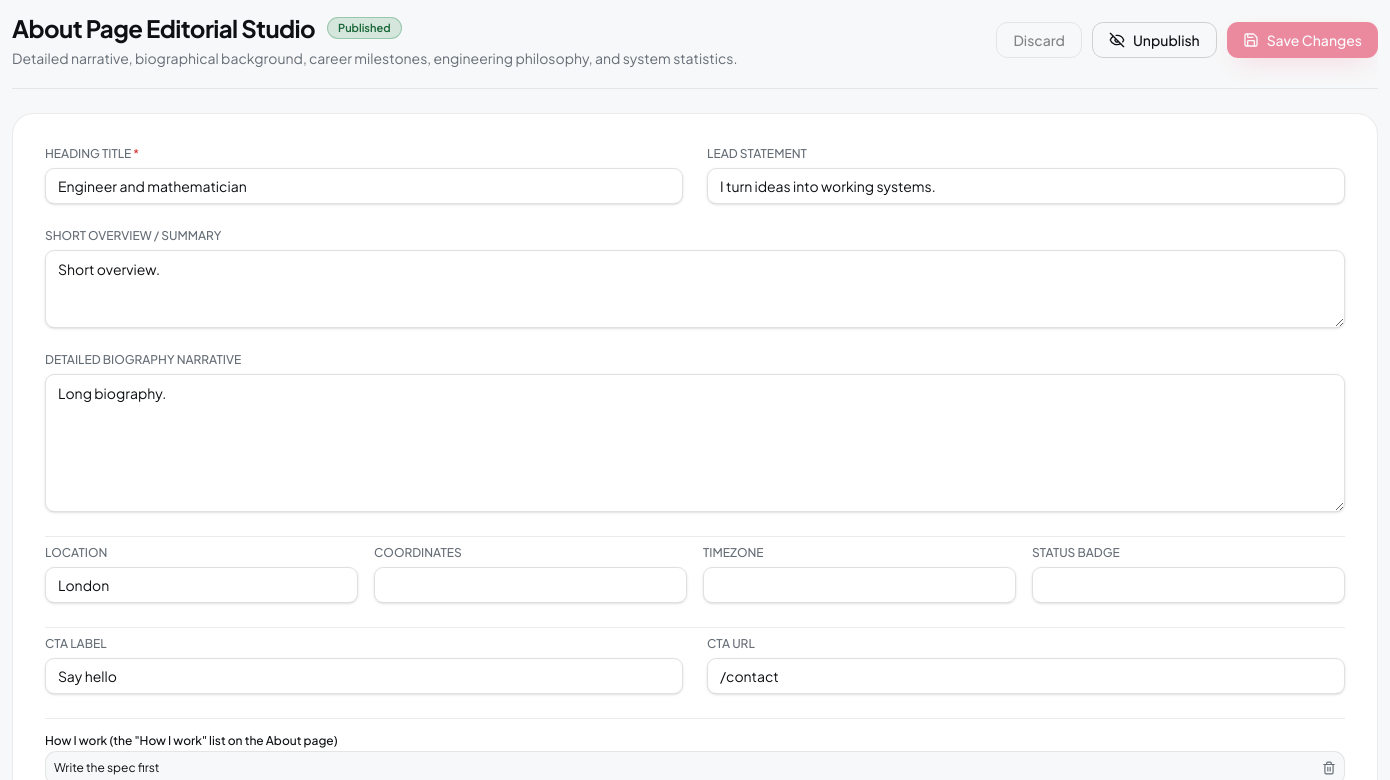
Test: AboutView › discards unsaved edits by loading the record again
The width and height of the screenshot is (1390, 780).
Type " extra" into the field labelled "Heading Title".
click(364, 186); type(" extra")  # box [45,168,683,204]
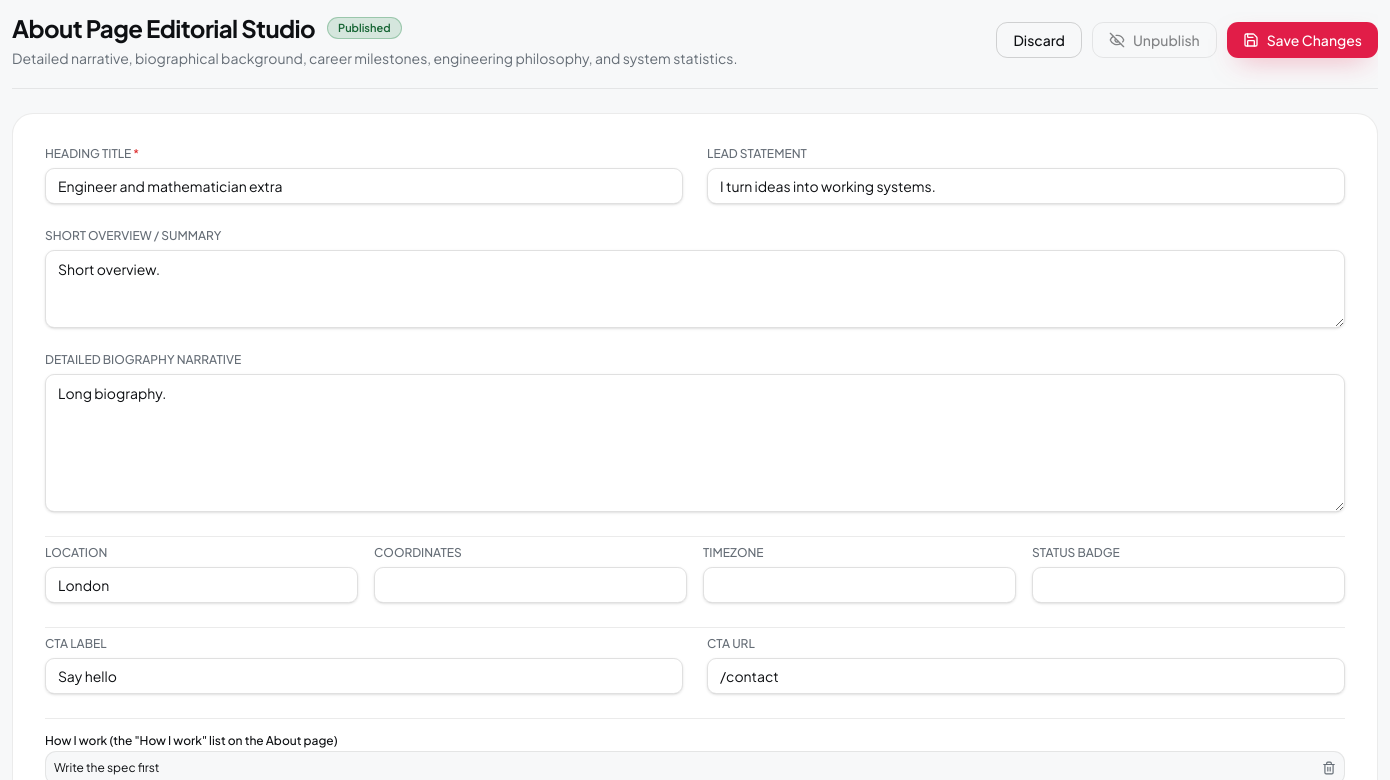
Click the button "Discard".
click(1039, 40)  # box [996,22,1082,58]
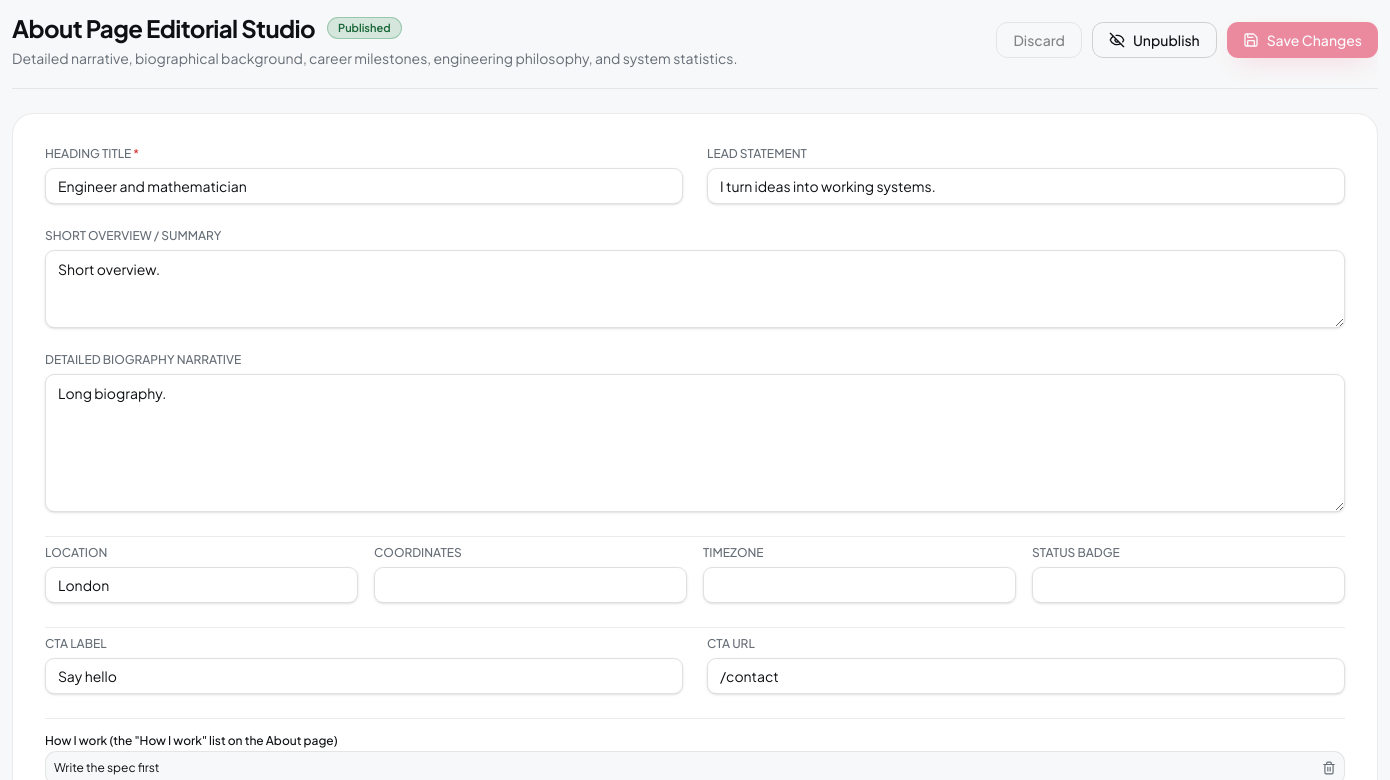
Expected: the field labelled "Heading Title" holds "Engineer and mathematician", [45,168,683,204]
